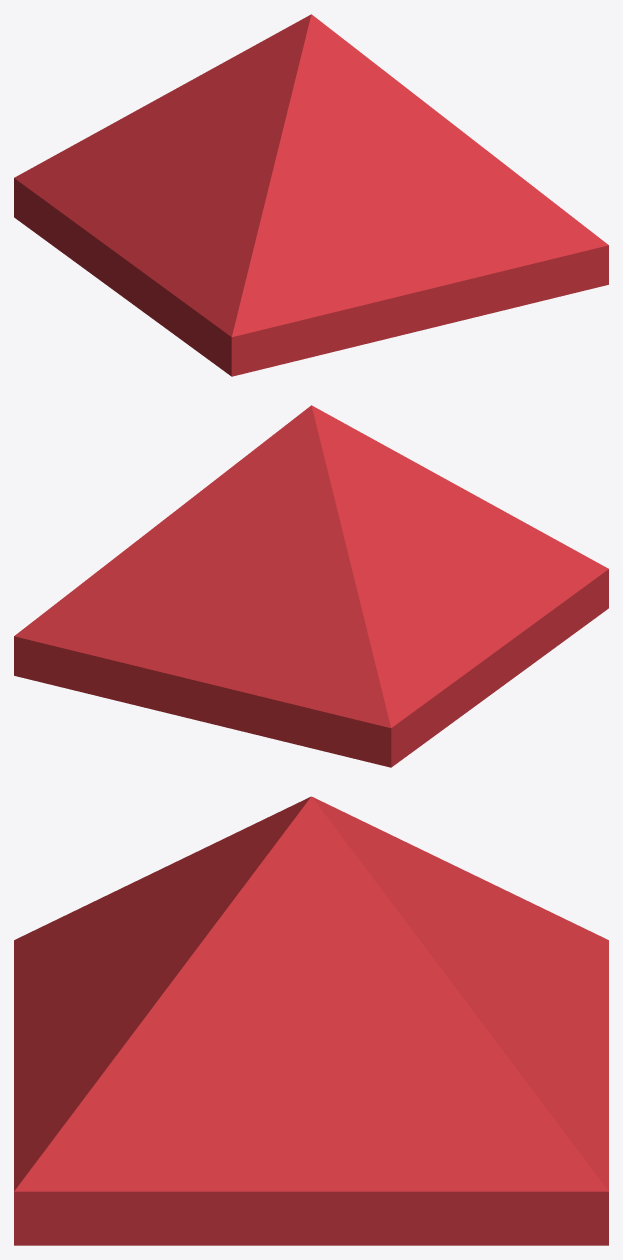
The model's file is roof_hip_point.glb.
3 views of the same model, one above another, from view 1: azimuth 30°, elevation 25°; view 2: azimuth 150°, elevation 25°; view 3: azimuth 270°, elevation 25° (orthographic). The views are drawn at different scales.
Visible parts, largest first — view 1: roof_hip_point; view 2: roof_hip_point; view 3: roof_hip_point.
Part boxes in pixels (x1,y1,x2,y2): roof_hip_point: (14, 14, 608, 376); roof_hip_point: (14, 405, 608, 767); roof_hip_point: (14, 796, 608, 1245).
Size of the model in its own units: 1 by 0.6 by 1.
